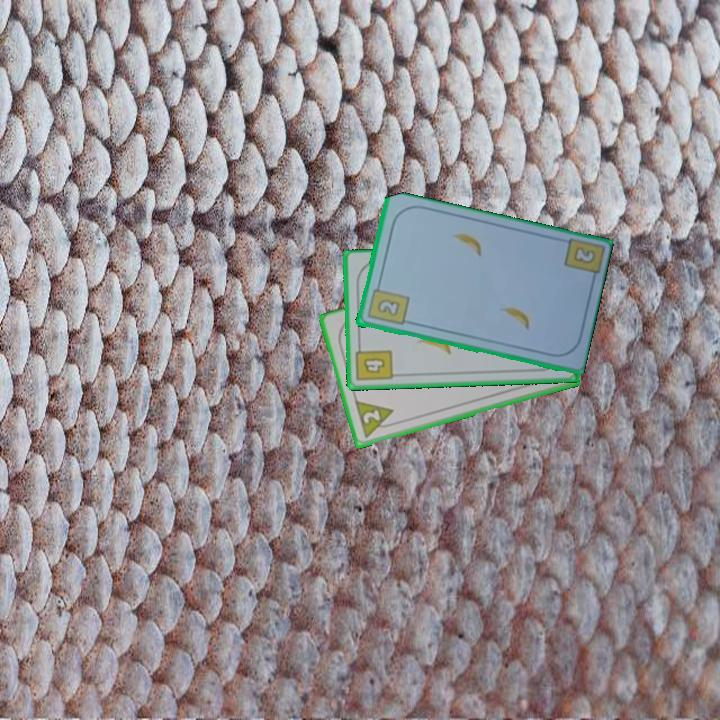2b: (364, 280, 411, 328), (570, 243, 598, 267)
2p: (351, 398, 399, 442)
4b: (353, 340, 395, 384)
